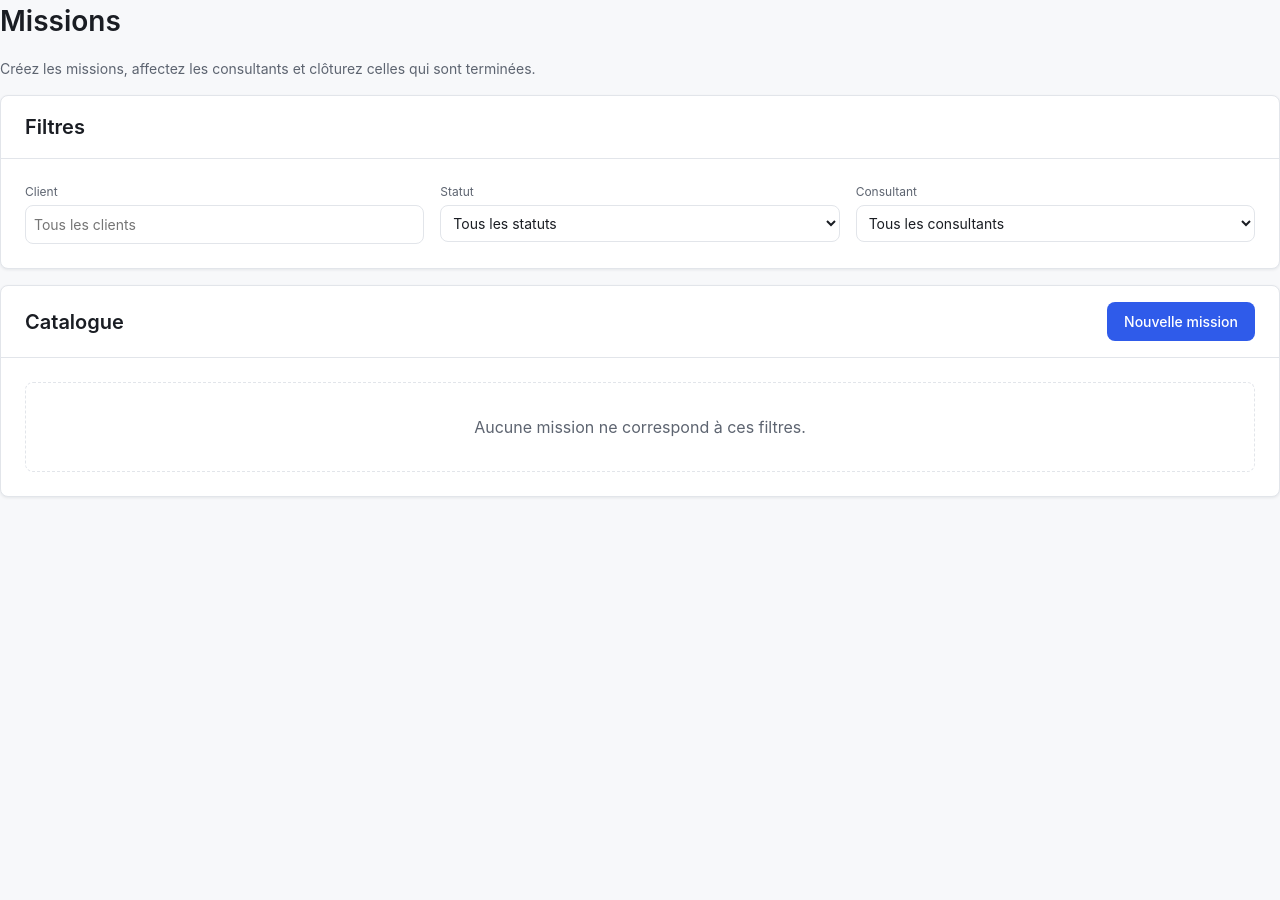
Scenario: MissionsPage › efface l’erreur de mutation quand le formulaire est annulé
The image size is (1280, 900).
Click the button "Nouvelle mission": (1181, 322) [1107, 302, 1255, 341]
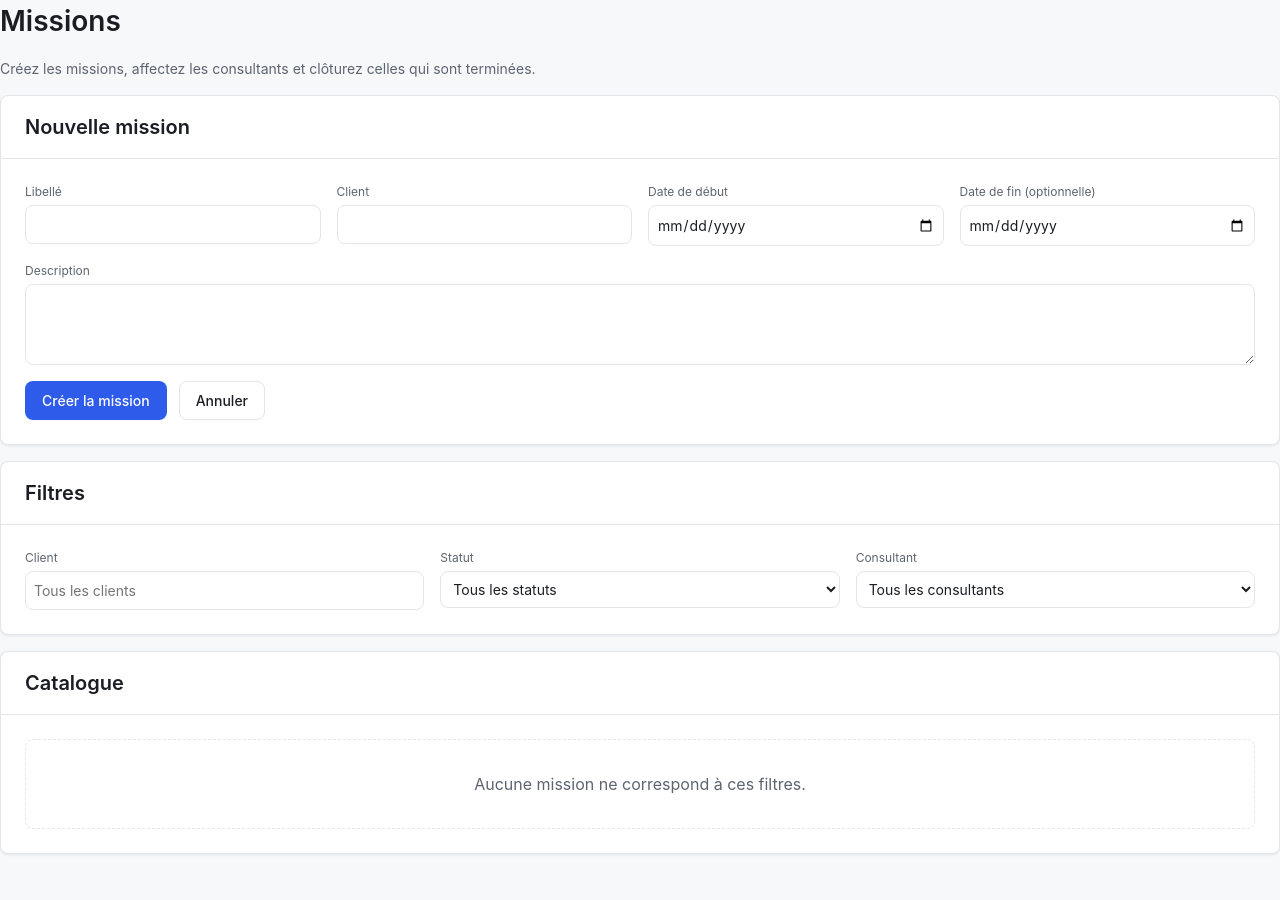
In the field labelled "Client" below "Date de début": (484, 224) [336, 205, 632, 244], type "ACME"
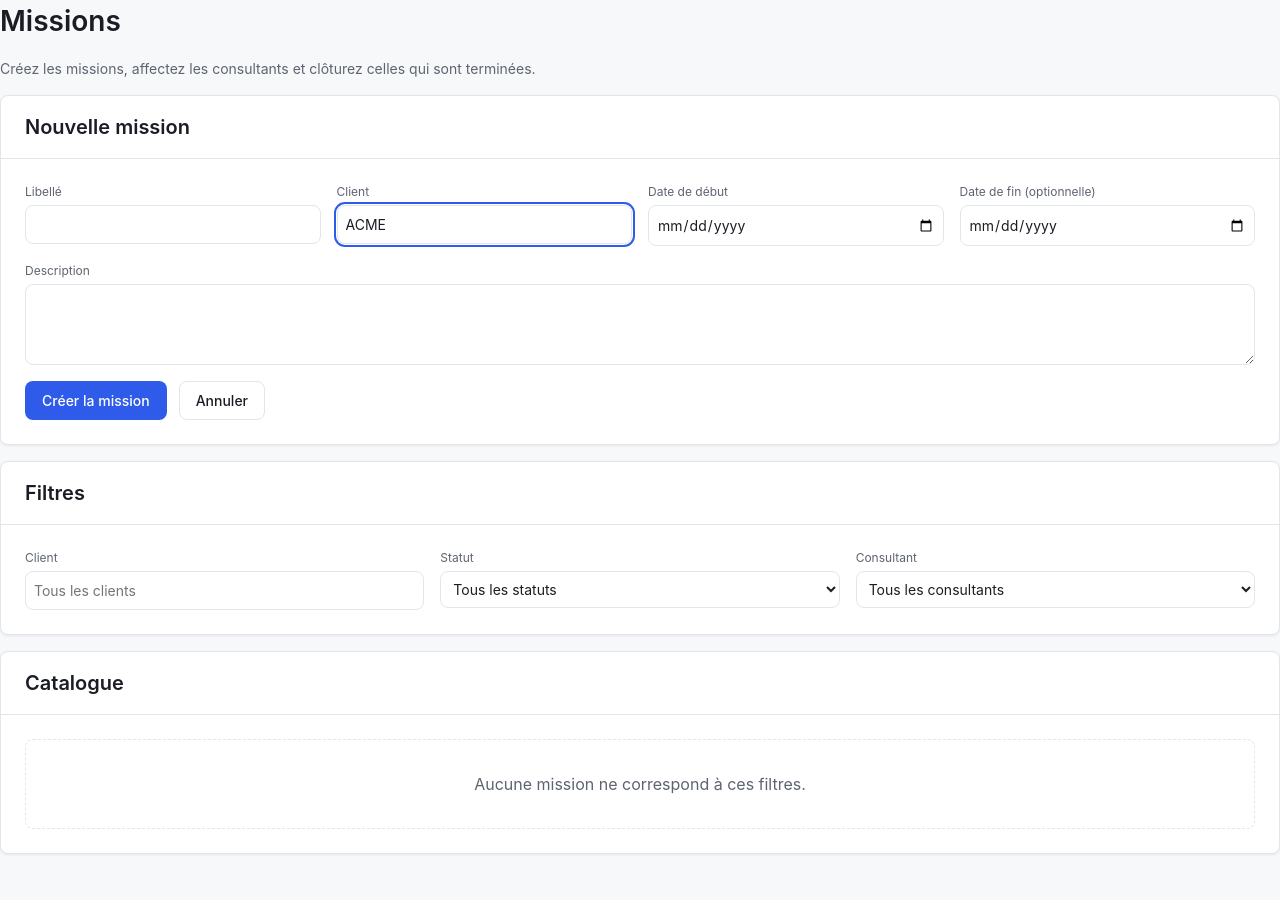
In the date field labelled "Date de début": (796, 226) [648, 205, 944, 246], type "2026-01-01"
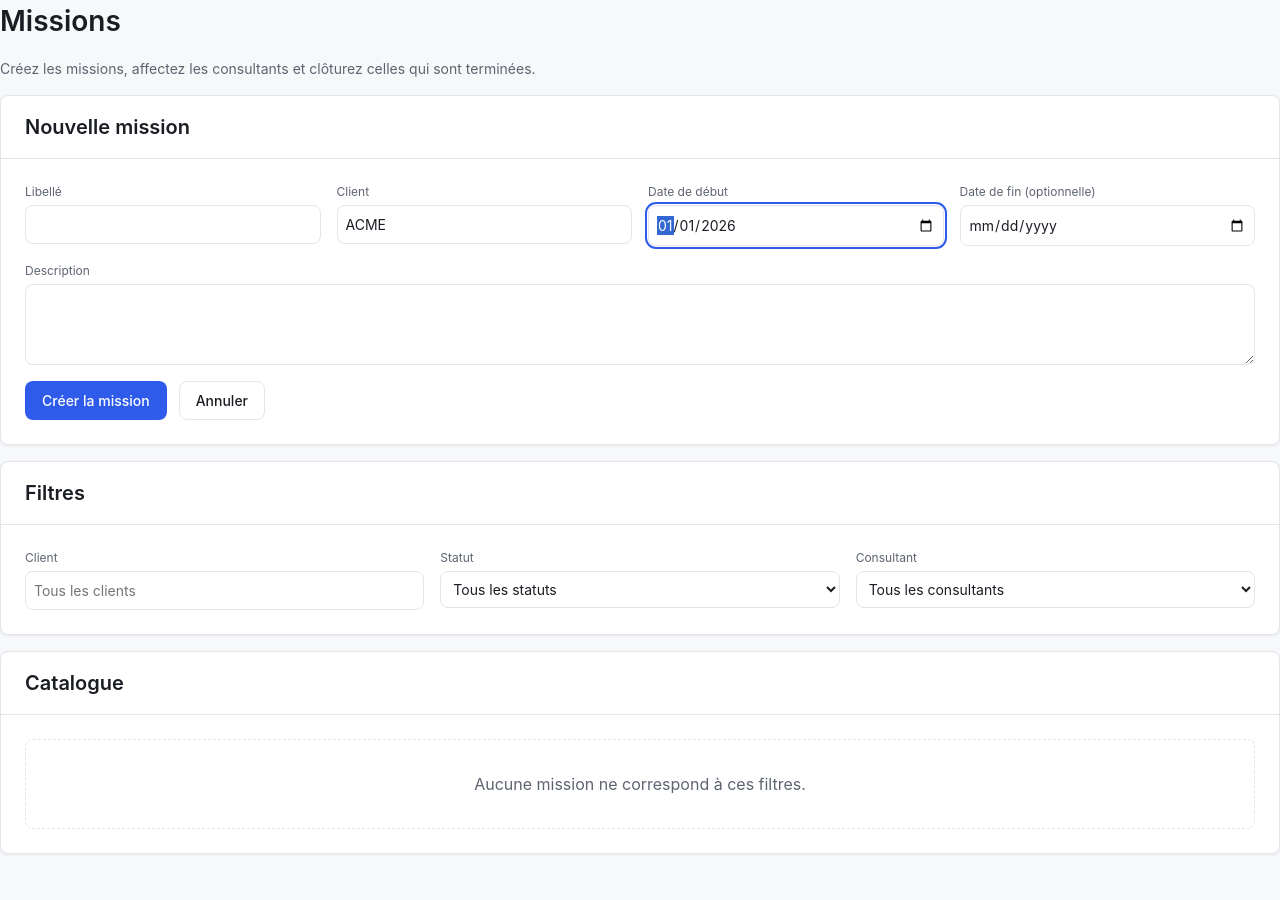
Click the button "Créer la mission": (96, 400) [25, 381, 167, 420]
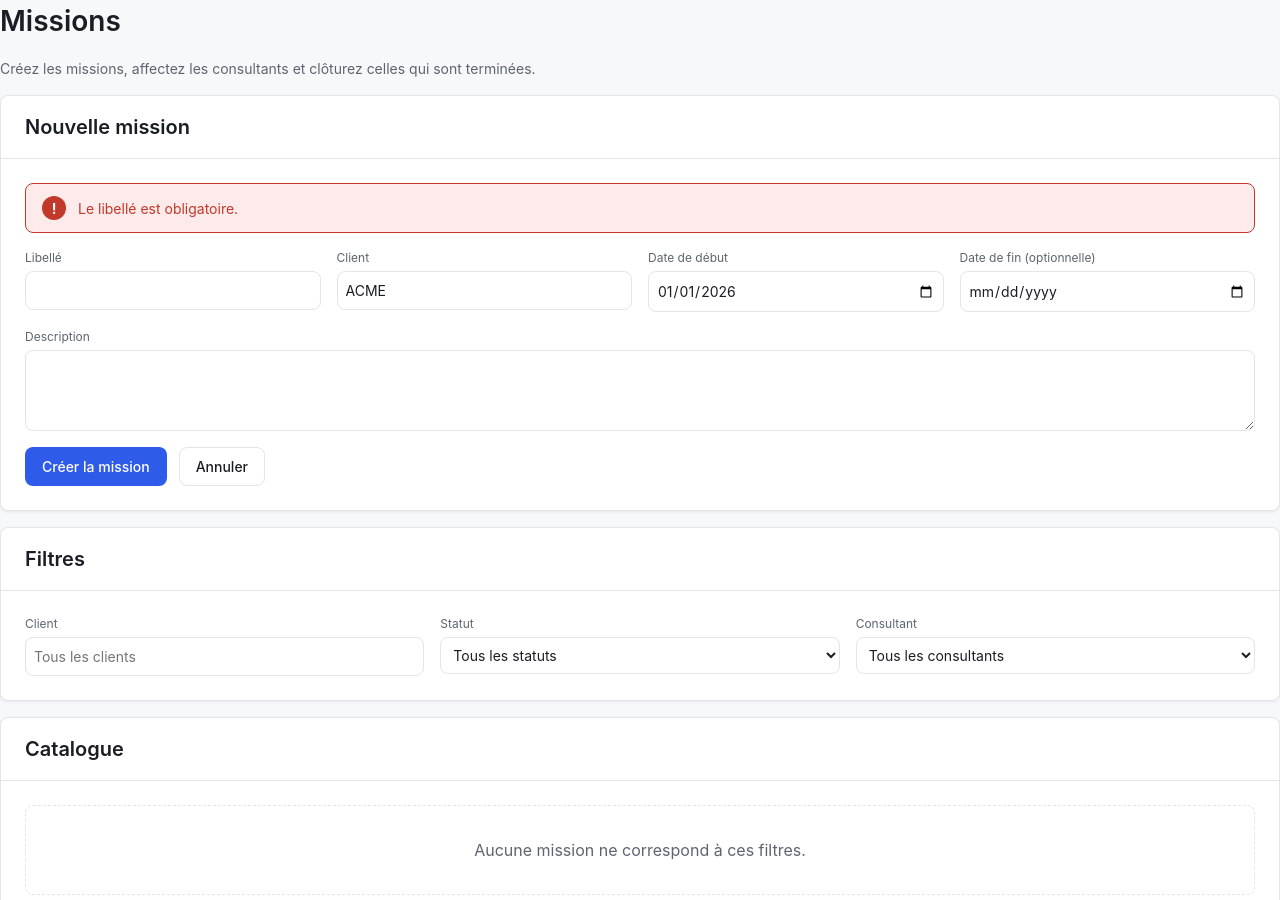
Check: the text "Le libellé est obligatoire." is shown, box [78, 198, 238, 218]
Click the button "Annuler": (222, 466) [179, 447, 265, 486]
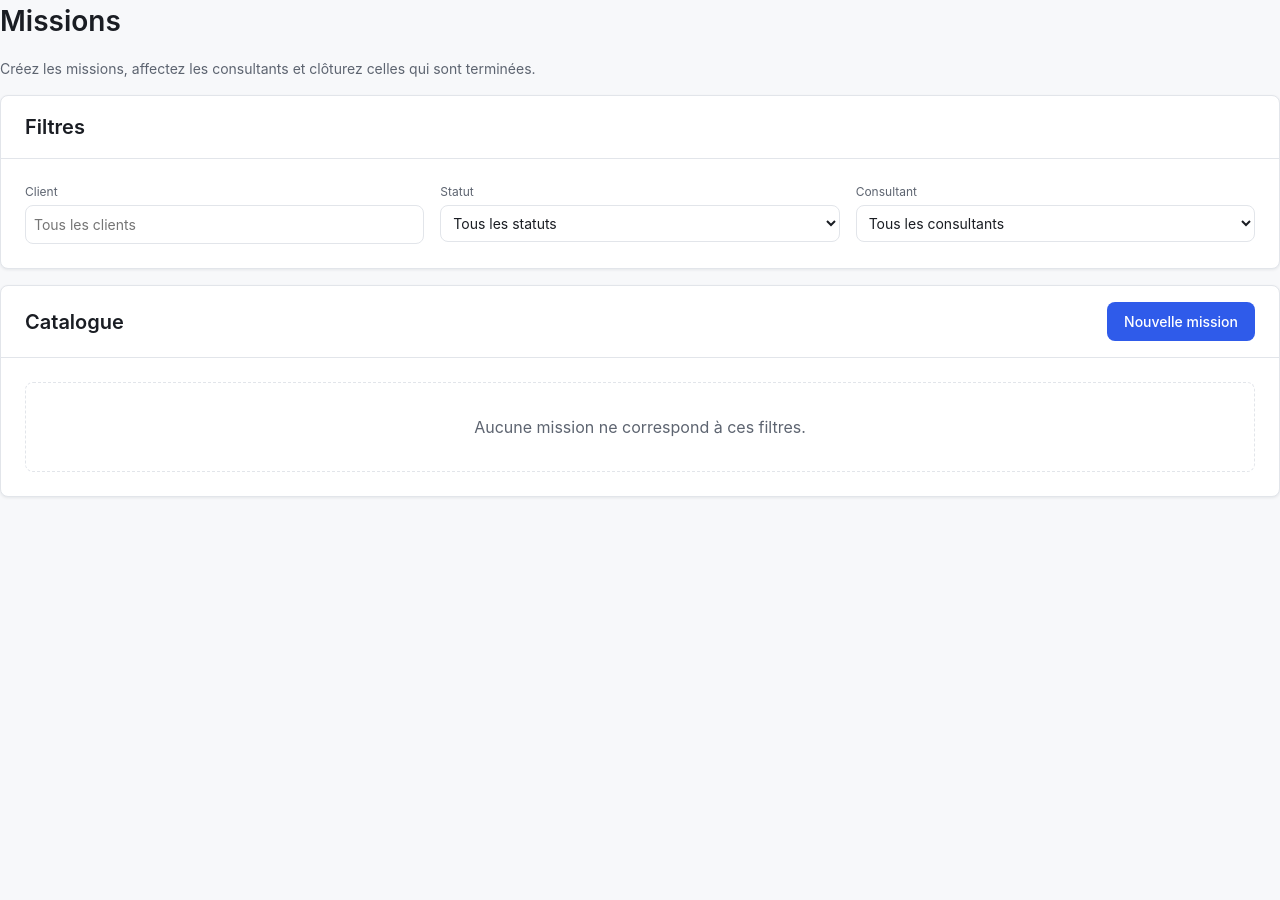
Check: the text "Le libellé est obligatoire." is gone
